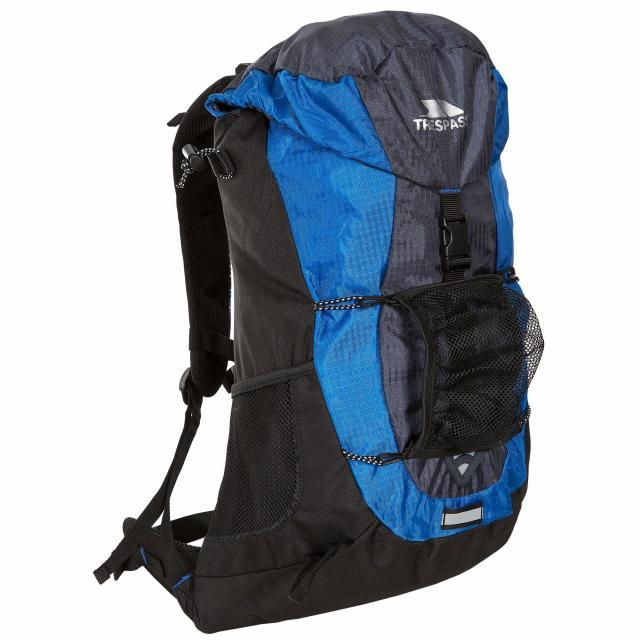Backpacks: (170, 10, 546, 635)
